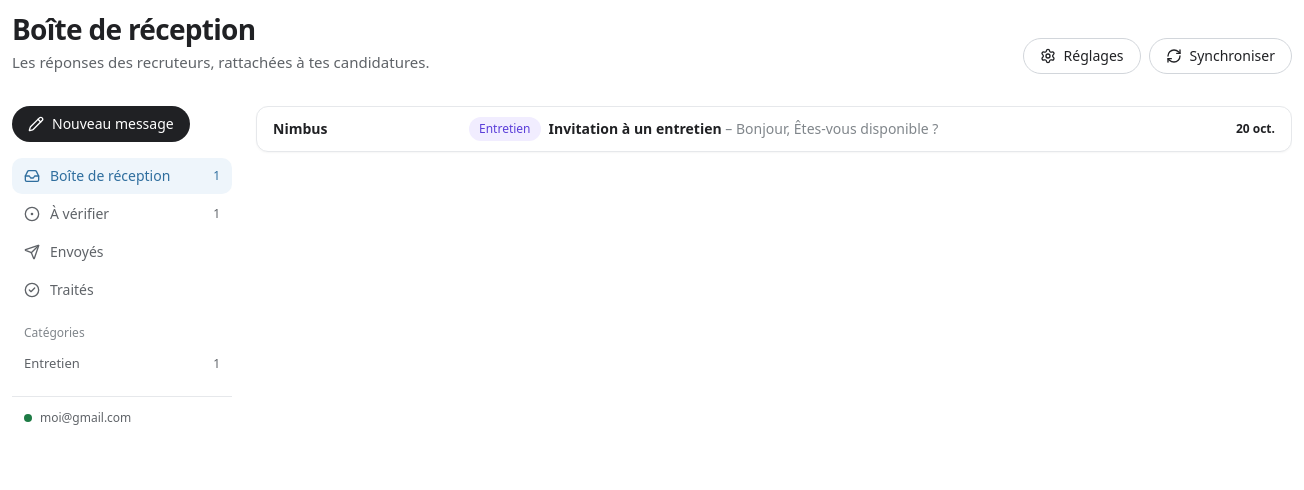
Test case: InboxScreen › lists a mail on one line, without its actions, then opens it
expect the text "Nimbus" is shown: met, box [273,118,327,138]
expect the button "Répondre" is not shown: met
Click the button "Nimbus". click: (774, 128)
box: [257,106,1291,150]
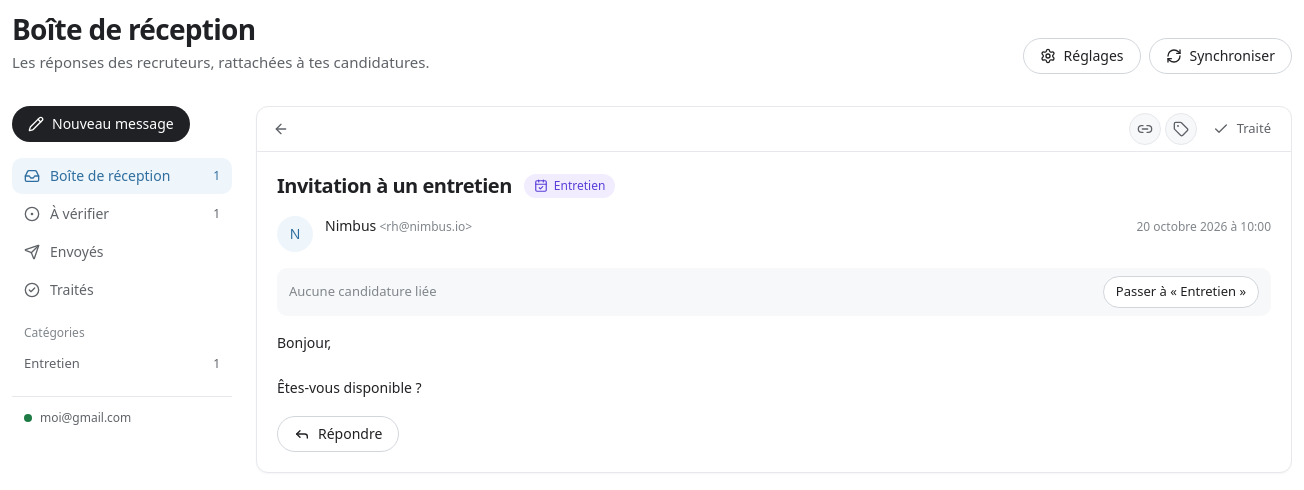
expect the heading "Invitation à un entretien" is shown: met, box [277,172,512,200]
expect the button "Répondre" is shown: met, box [277,416,399,452]
expect the button "Passer à « Entretien »" is shown: met, box [1103,276,1259,308]
Click the button named "Retour à la liste". click: (281, 128)
box: [265,112,297,144]
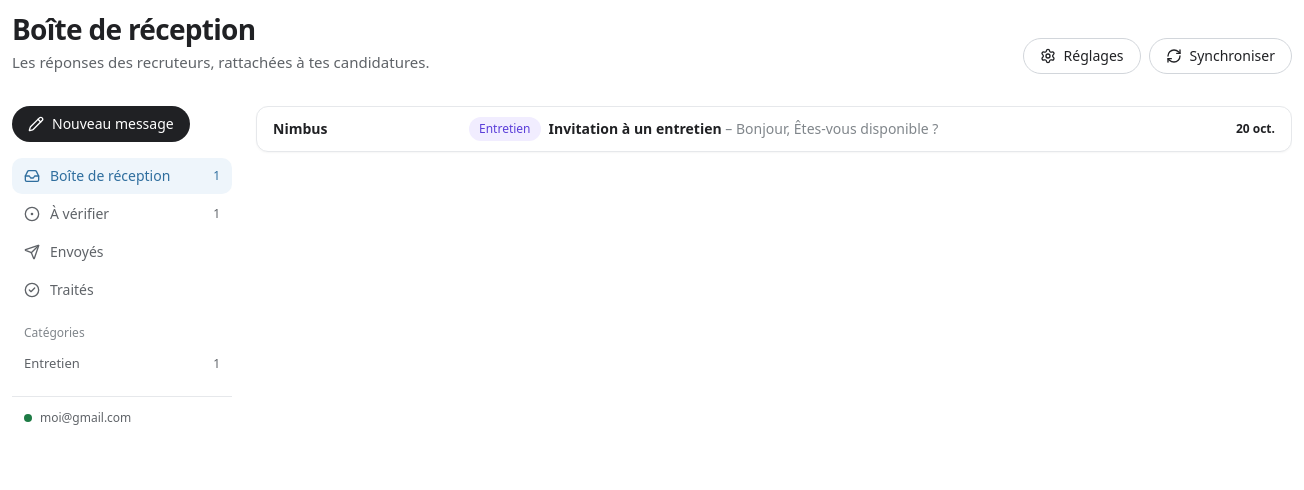
expect the list named "Mails" is shown: met, box [257,106,1291,150]
